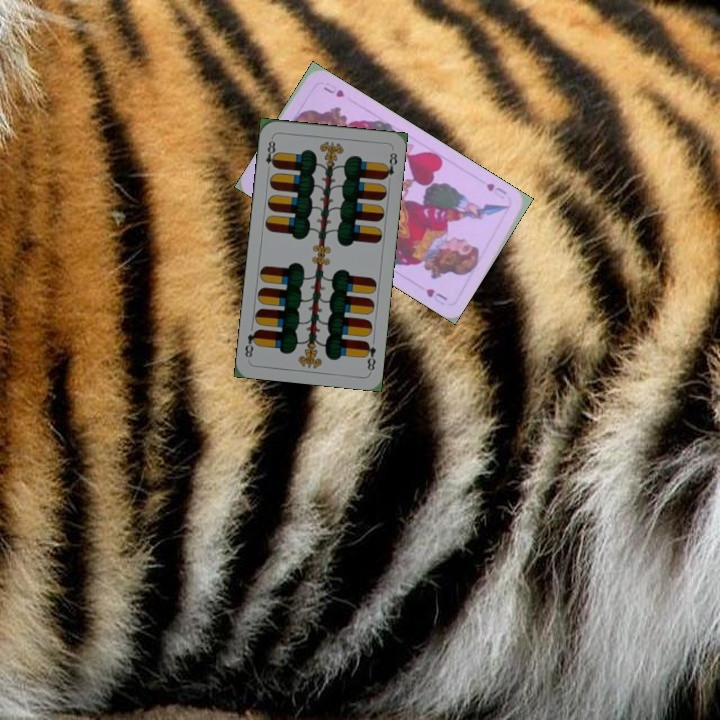E8: (262, 134, 280, 174), (360, 337, 378, 373)
HU: (482, 179, 509, 202)
